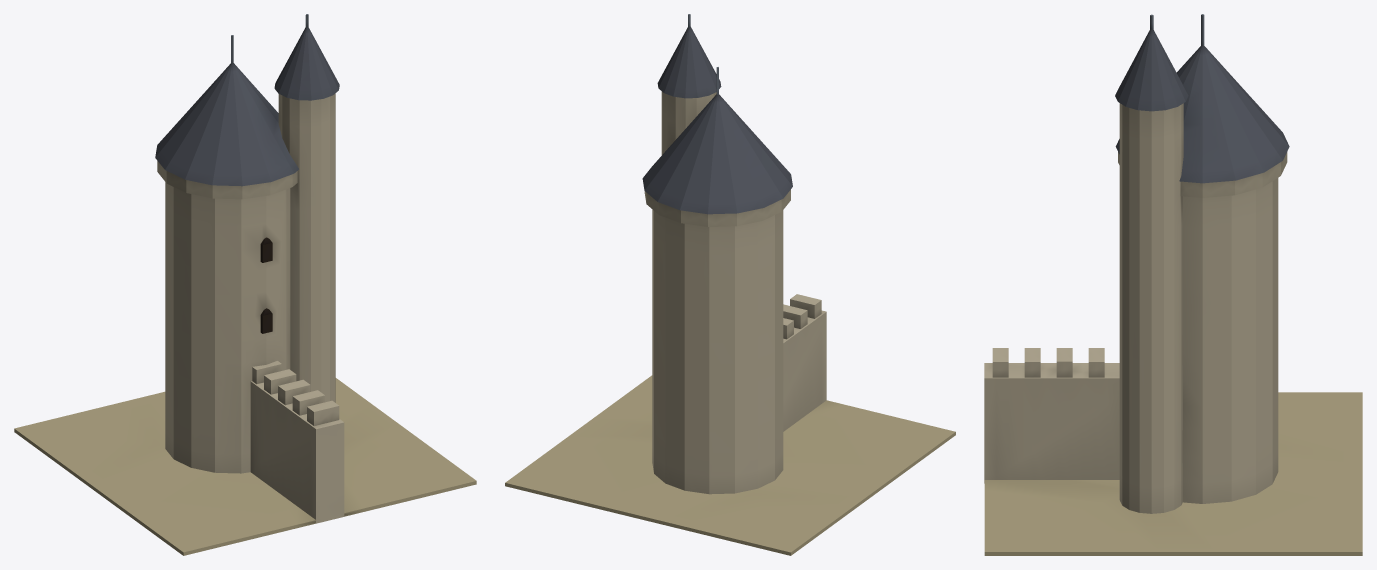
Rendered from tour-de-nesle.glb.
3 views of the same model, side by side, from view 1: azimuth 30°, elevation 25°; view 2: azimuth 150°, elevation 25°; view 3: azimuth 270°, elevation 25° (orthographic). The views are drawn at different scales.
Visible parts, largest first — view 1: p1_tower, p0_wall; view 2: p1_tower, p0_wall; view 3: p1_tower, p0_wall.
Part boxes in pixels (x1=…): p1_tower: x1=155, y1=14, x2=339, y2=473; p0_wall: x1=14, y1=361, x2=476, y2=555; p1_tower: x1=642, y1=14, x2=792, y2=494; p0_wall: x1=505, y1=294, x2=955, y2=555; p1_tower: x1=1115, y1=14, x2=1289, y2=513; p0_wall: x1=984, y1=348, x2=1362, y2=555.
Size of the model in its own units: 26 by 37.13 by 26.01.
